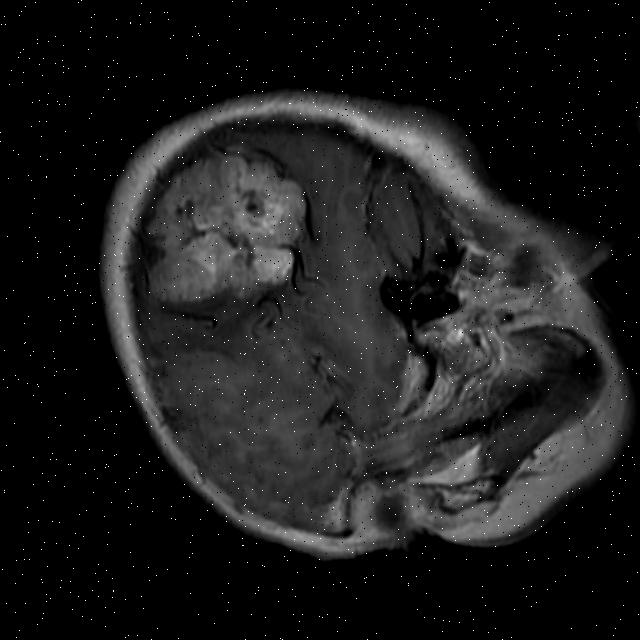Meningioma: (136, 145, 318, 309)
